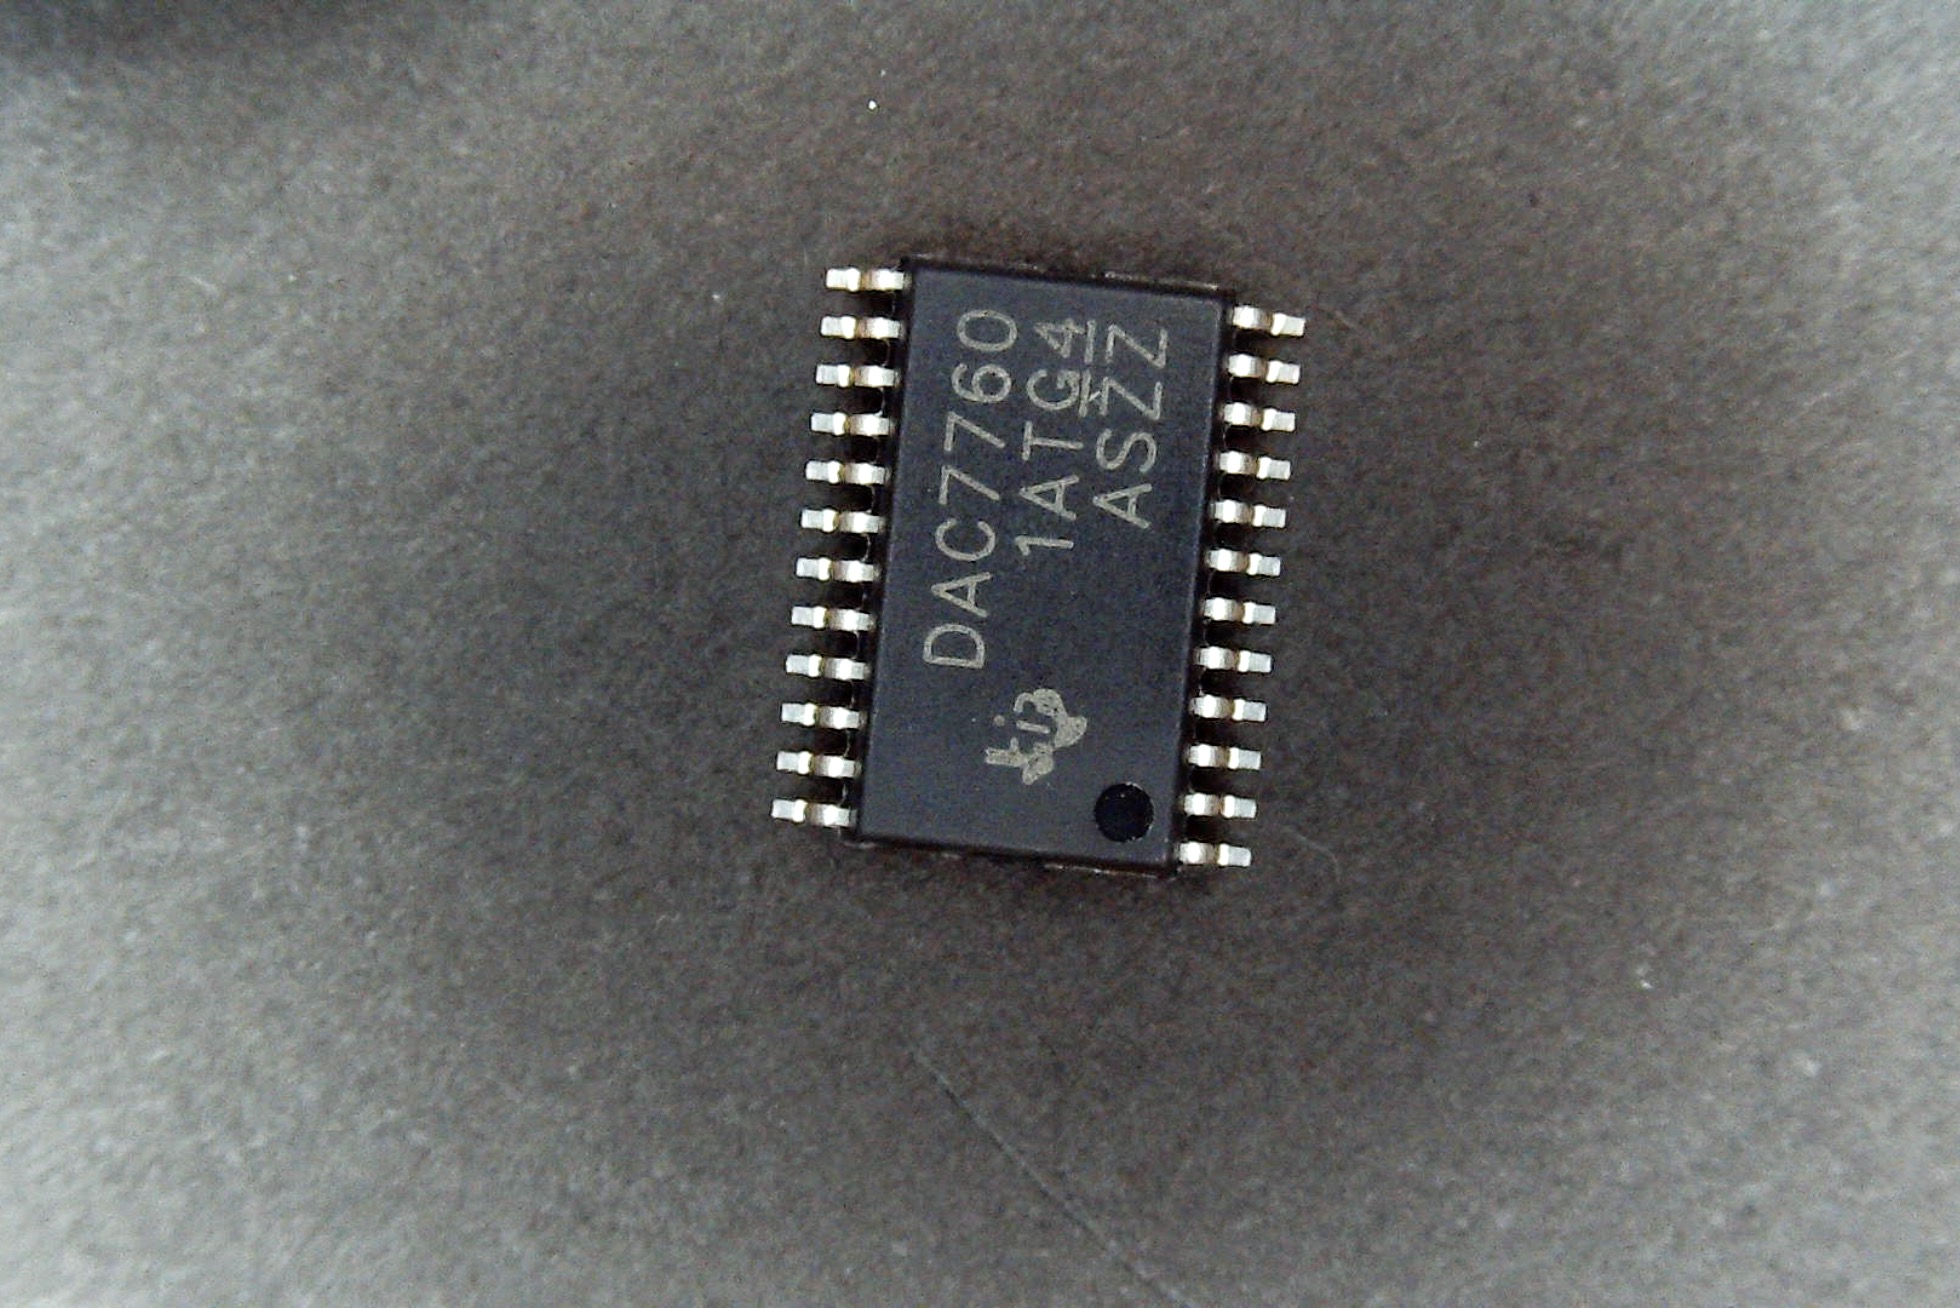bbox: (771, 253, 1305, 912)
